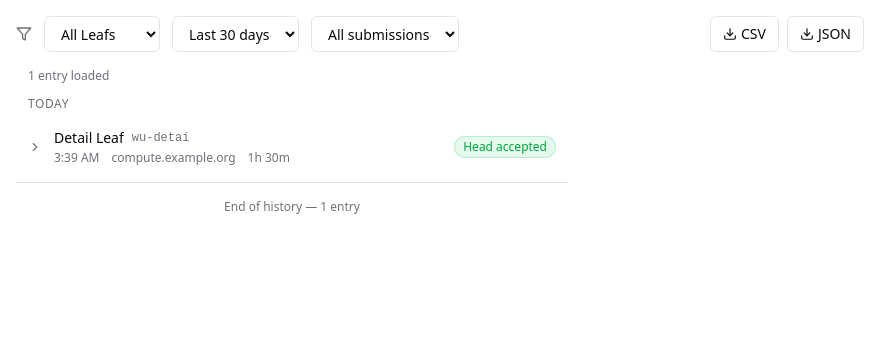
Test: HistoryPage › detail section shows correct values for cpu_seconds, duration, and head
Click the text "Detail Leaf" at (89, 138), box [54,128,124,148]
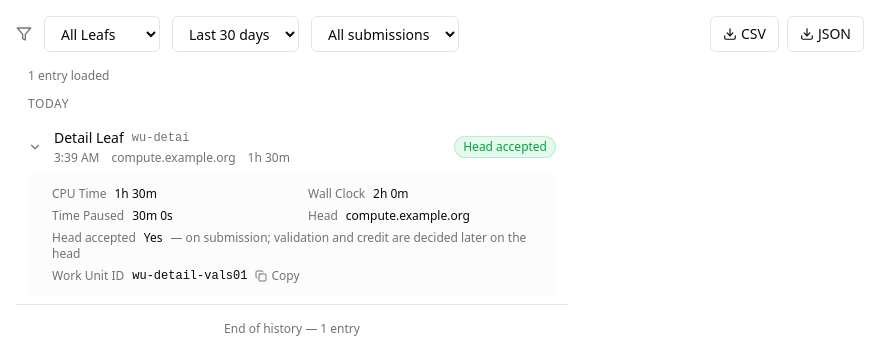
Check: the text "wu-detail-vals01" is shown, box [132,268,247,284]
